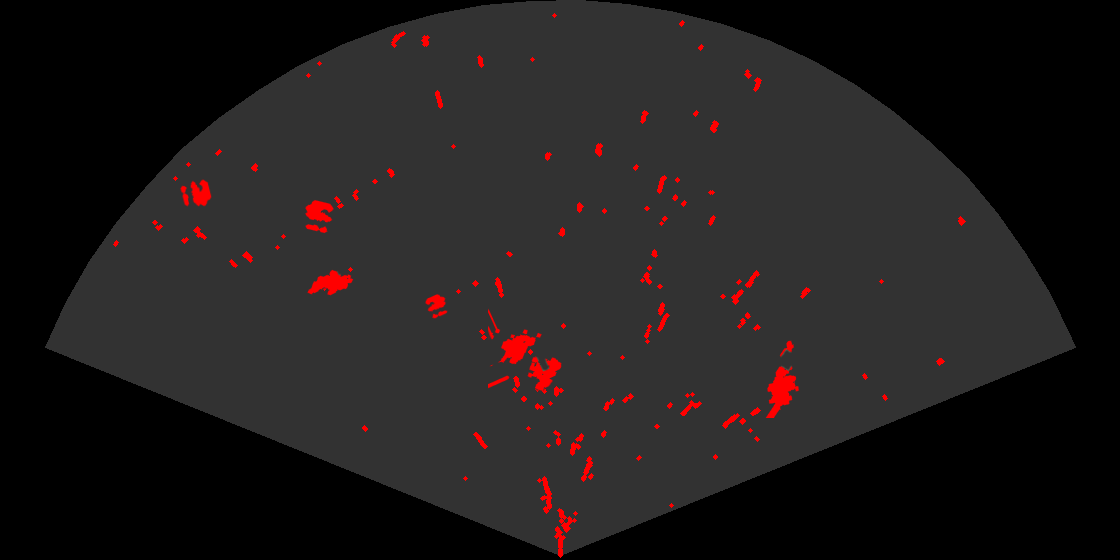AUV: (306, 268, 355, 297)
ball: (304, 198, 335, 235), (179, 178, 213, 208), (424, 293, 449, 320)
cage: (488, 308, 563, 392)
frogman: (764, 339, 800, 418)
